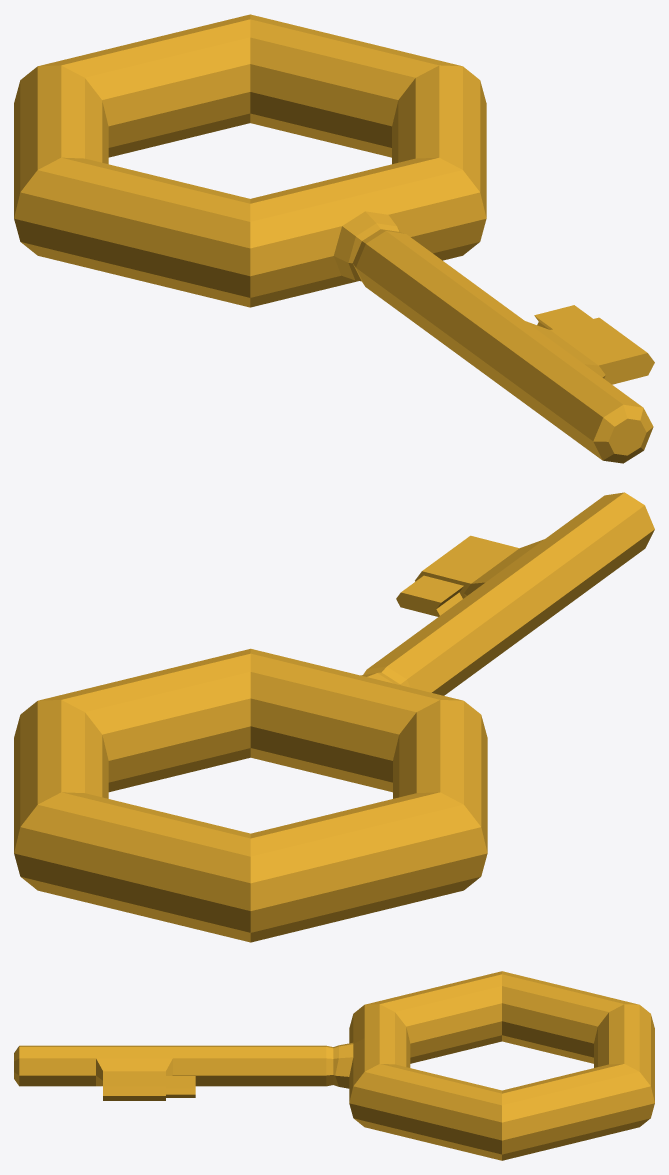
Rendered from key.fbx.
3 views of the same model, one above another, from view 1: azimuth 30°, elevation 25°; view 2: azimuth 150°, elevation 25°; view 3: azimuth 270°, elevation 25° (orthographic). The views are drawn at different scales.
Parts seen in each view (by area): view 1: Torus; view 2: Torus; view 3: Torus.
Boxes of the visible parts, box(x1,y1,x2,y2) form: Torus: box(14, 14, 654, 463); Torus: box(14, 492, 654, 942); Torus: box(14, 971, 654, 1160).
Size of the model in its own units: 250 by 50 by 454.
